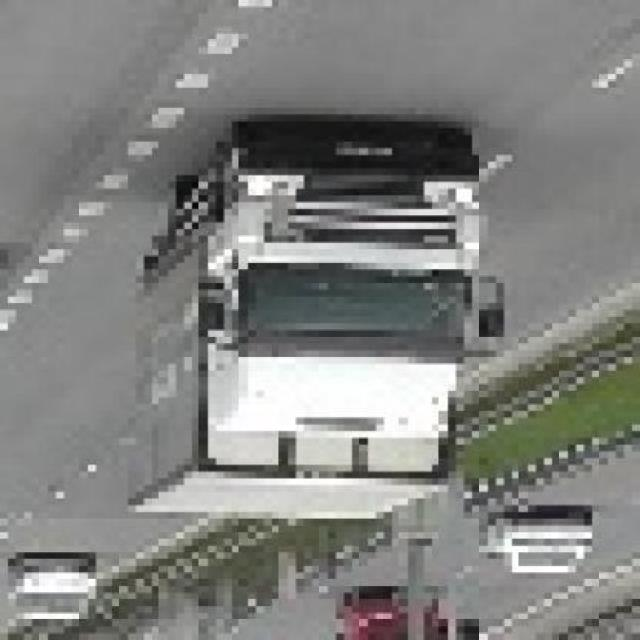truck: (129, 129, 513, 533)
